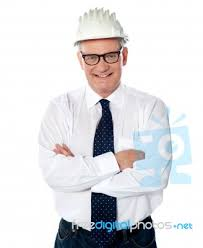Person_wearing_helmet: (69, 3, 130, 67)
